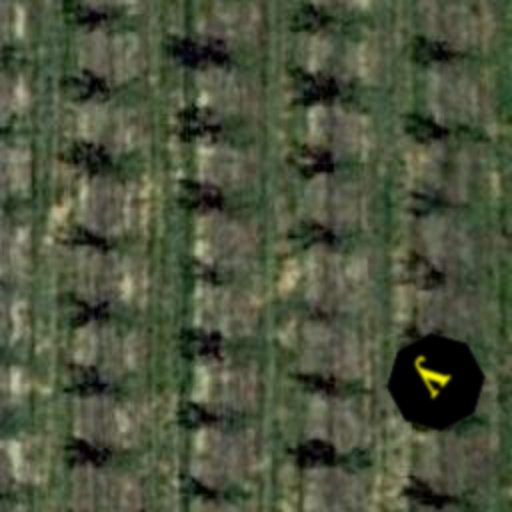octagon: (364, 310, 508, 454)
